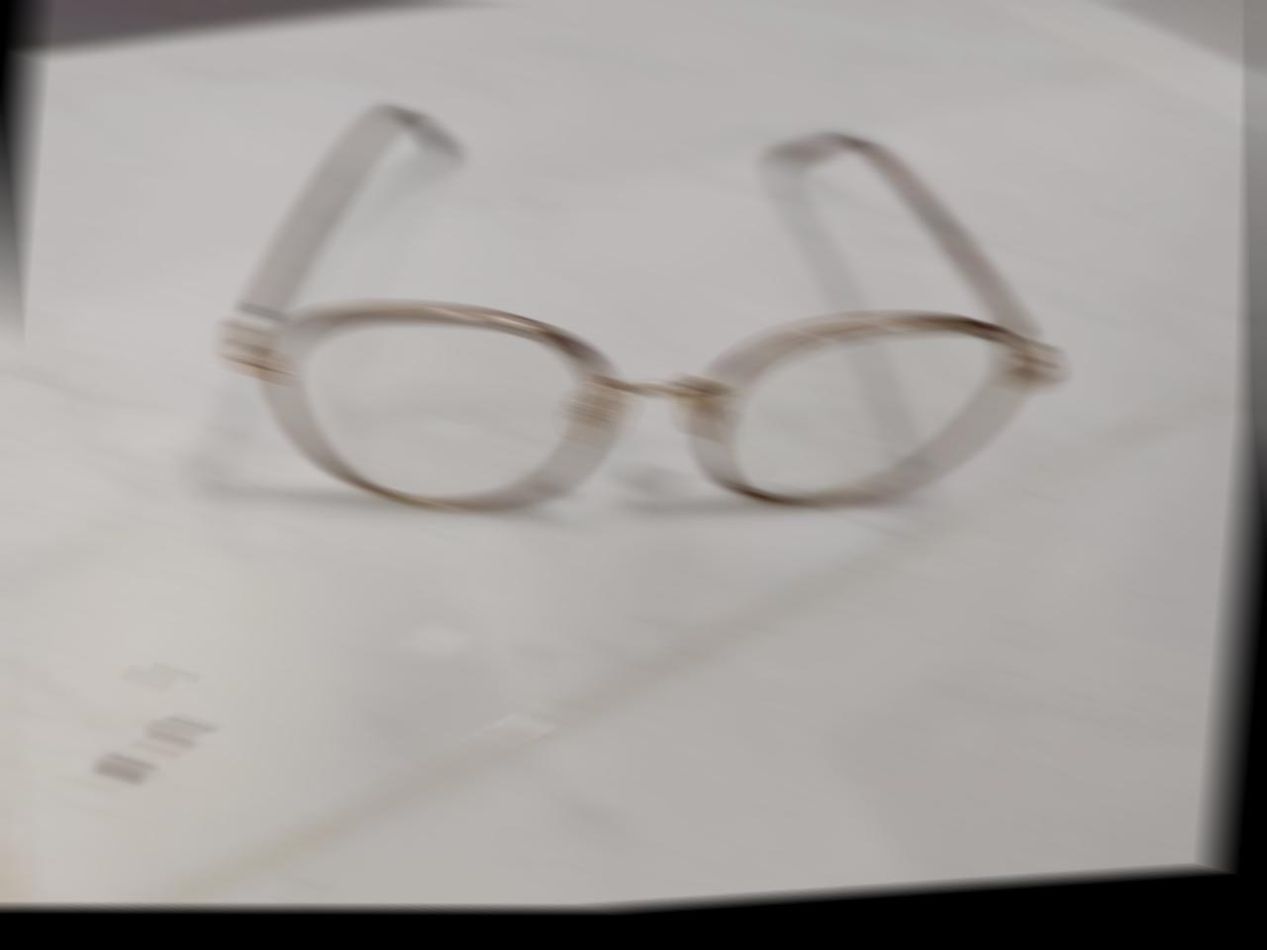glasses: (194, 38, 1105, 590)
